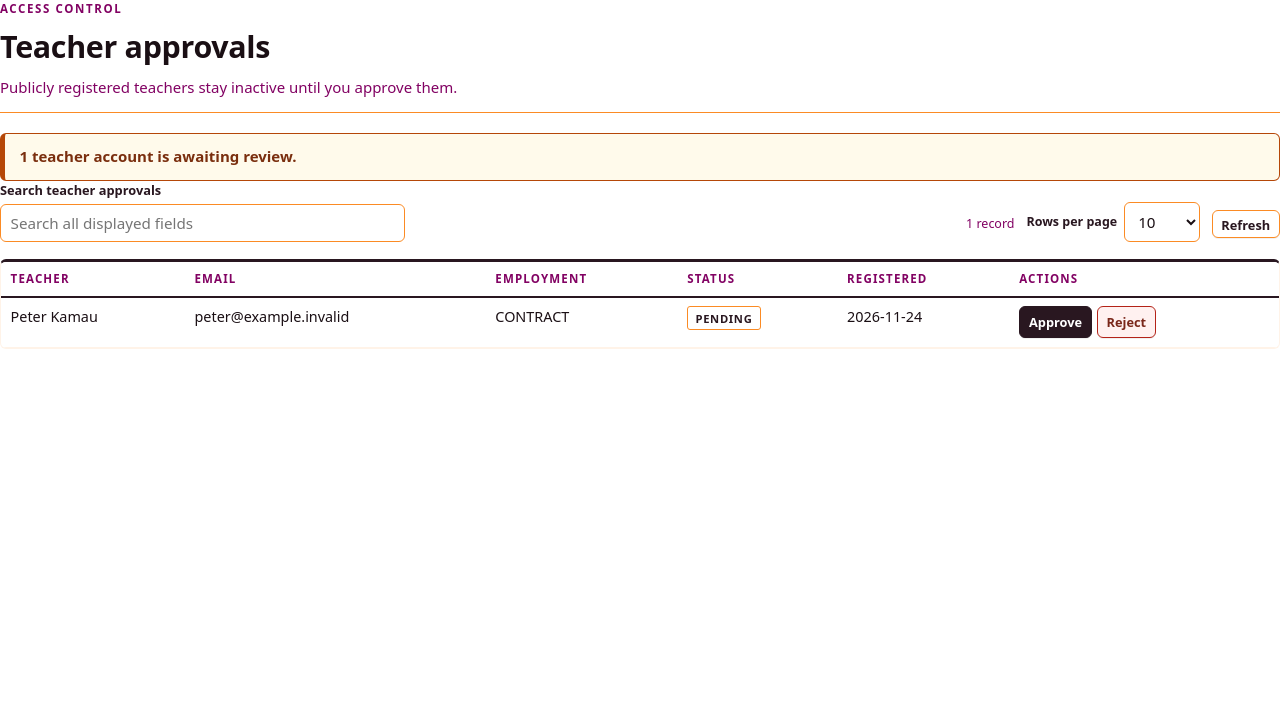
Test case: teacher approvals › shows pending accounts and approves them through the explicit action
Later steps or results of the test are not shown.
Expected: the text "Peter Kamau" is shown, x1=1 y1=297 x2=185 y2=348
Expected: the text "1 teacher account is awaiting review." is shown, x1=0 y1=133 x2=1279 y2=181
Click the button with aria-label "Approve teacher account for Peter Kamau": (1056, 322) x1=1019 y1=306 x2=1092 y2=338
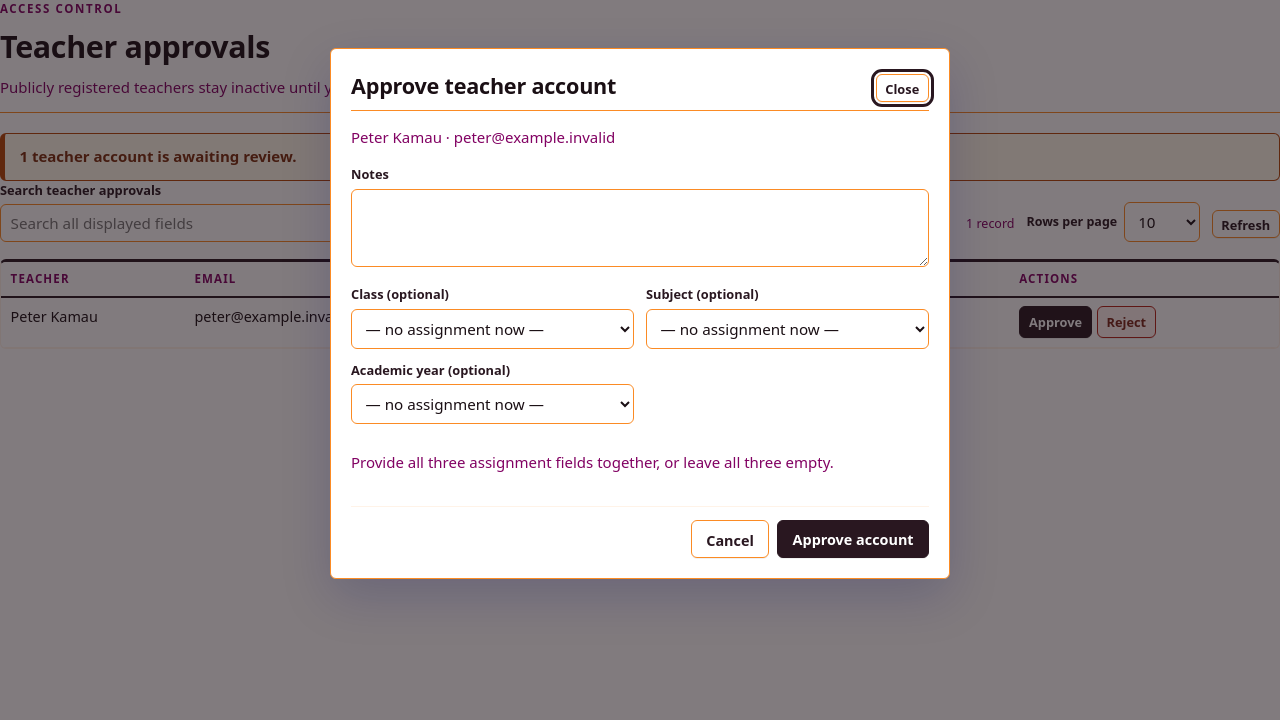
Expected: the dialog "Approve teacher account" is shown, x1=330 y1=48 x2=950 y2=579
